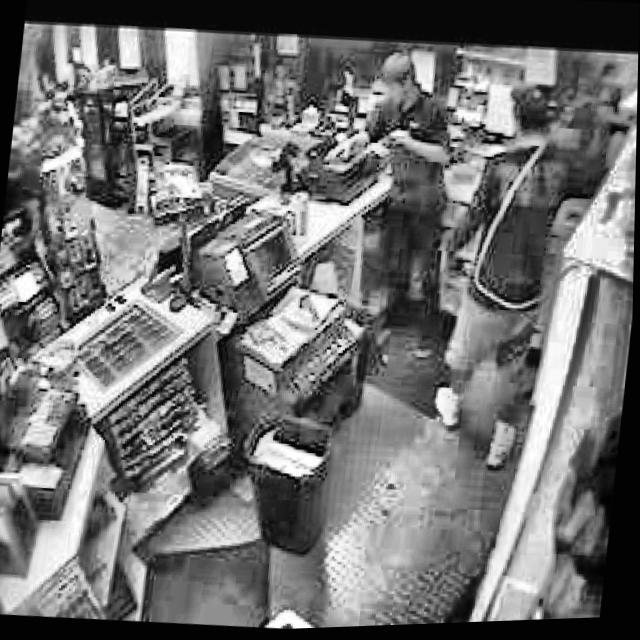Weapon: (459, 68, 599, 490), (331, 0, 462, 363)
